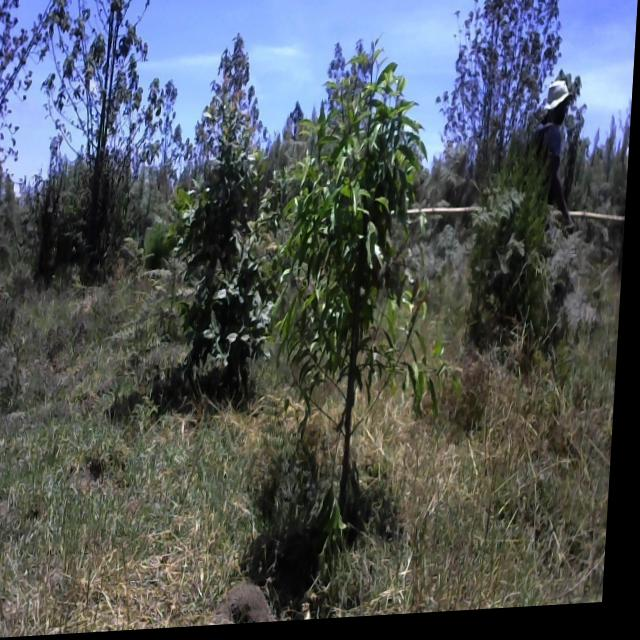Hass Avocado: (275, 38, 483, 529), (166, 71, 294, 396)
cedrus: (476, 154, 557, 344)
other: (439, 0, 588, 191), (35, 0, 183, 183)
